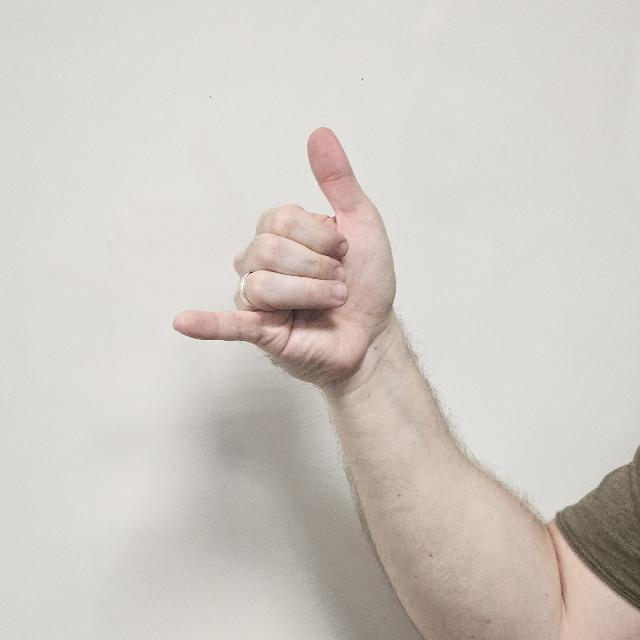Direita: (175, 121, 403, 421)
